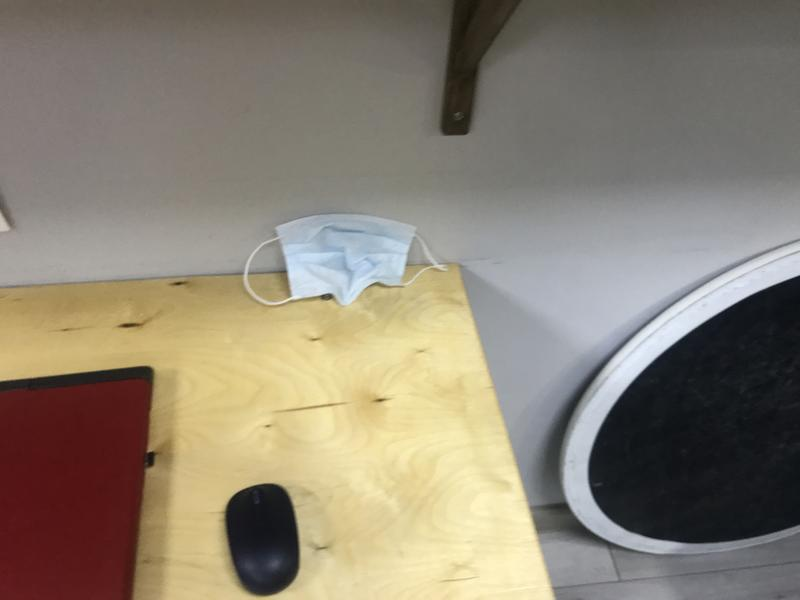medical_mask: (245, 213, 448, 305)
